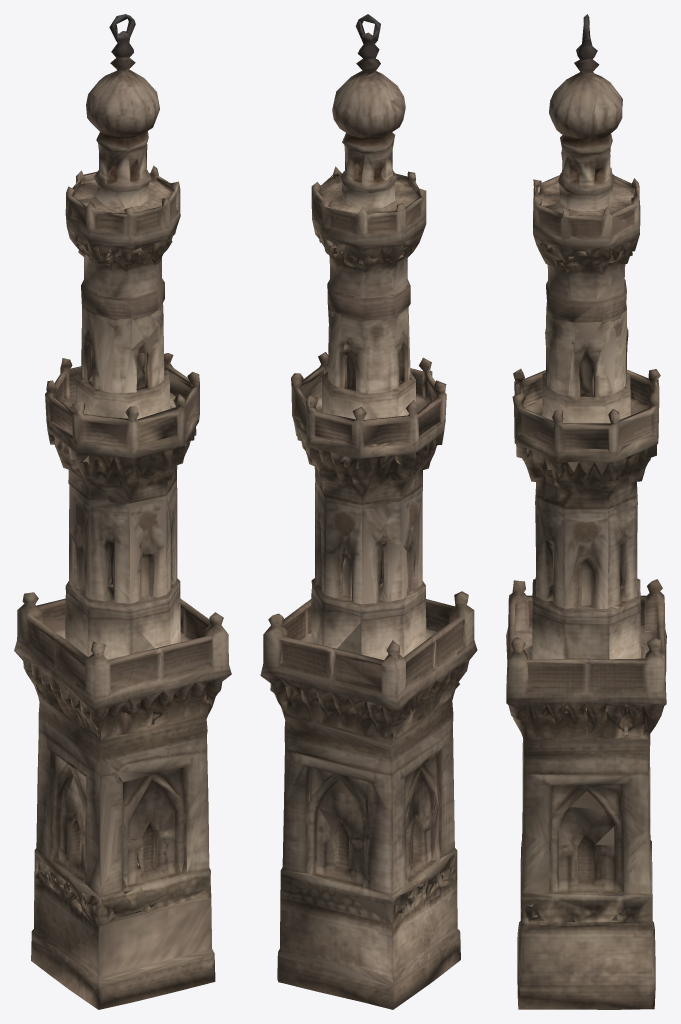
File: cai_minaret_mamluk.glb
3 views of the same model, side by side, from view 1: azimuth 30°, elevation 25°; view 2: azimuth 150°, elevation 25°; view 3: azimuth 270°, elevation 25° (orthographic).
Visible parts, largest first — view 1: prop; view 2: prop; view 3: prop.
Boxes of the visible parts, x1=… form: prop: x1=14, y1=14, x2=231, y2=1009; prop: x1=260, y1=14, x2=477, y2=1009; prop: x1=506, y1=14, x2=666, y2=1009.
Bounding box in the file's own units: 6.04 × 40 × 6.04.
1 material, 1 textured.
